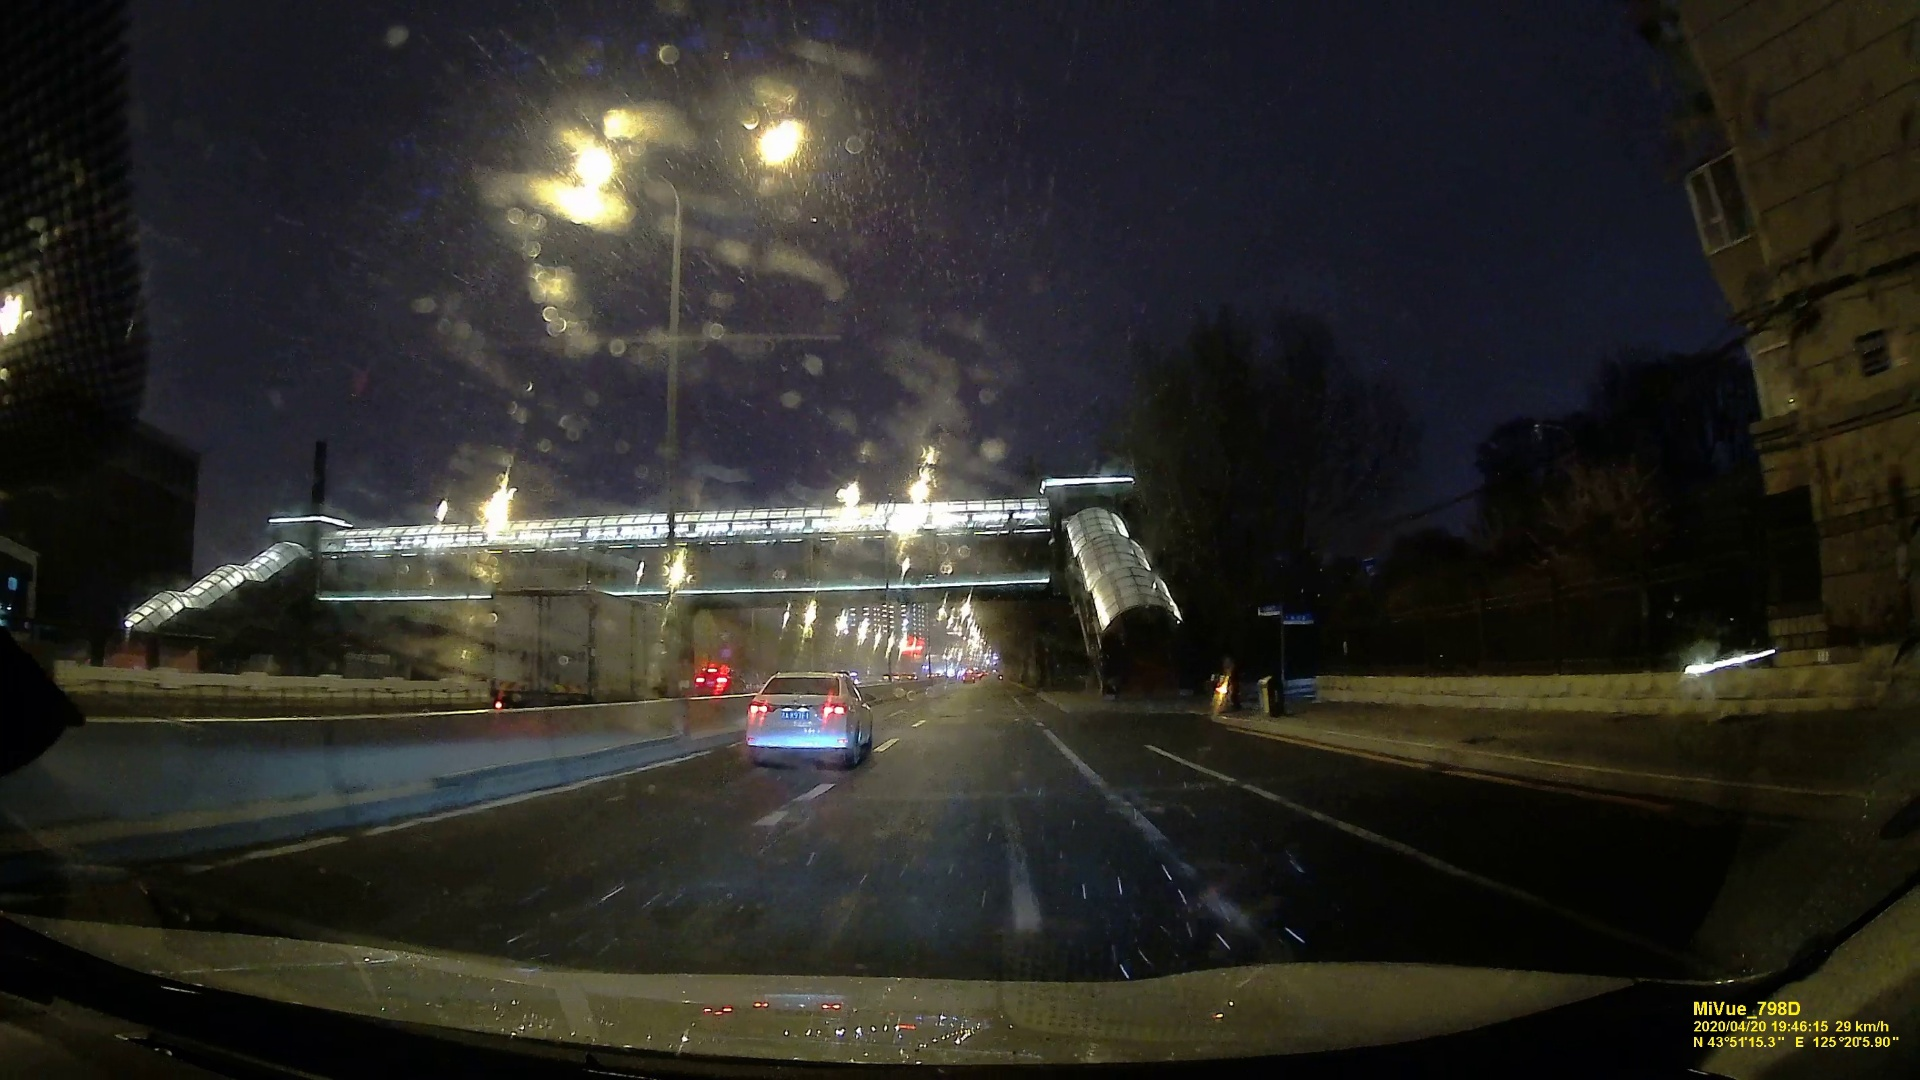truck: (491, 589, 669, 703)
vehicle: (746, 674, 874, 765), (695, 666, 748, 695)
